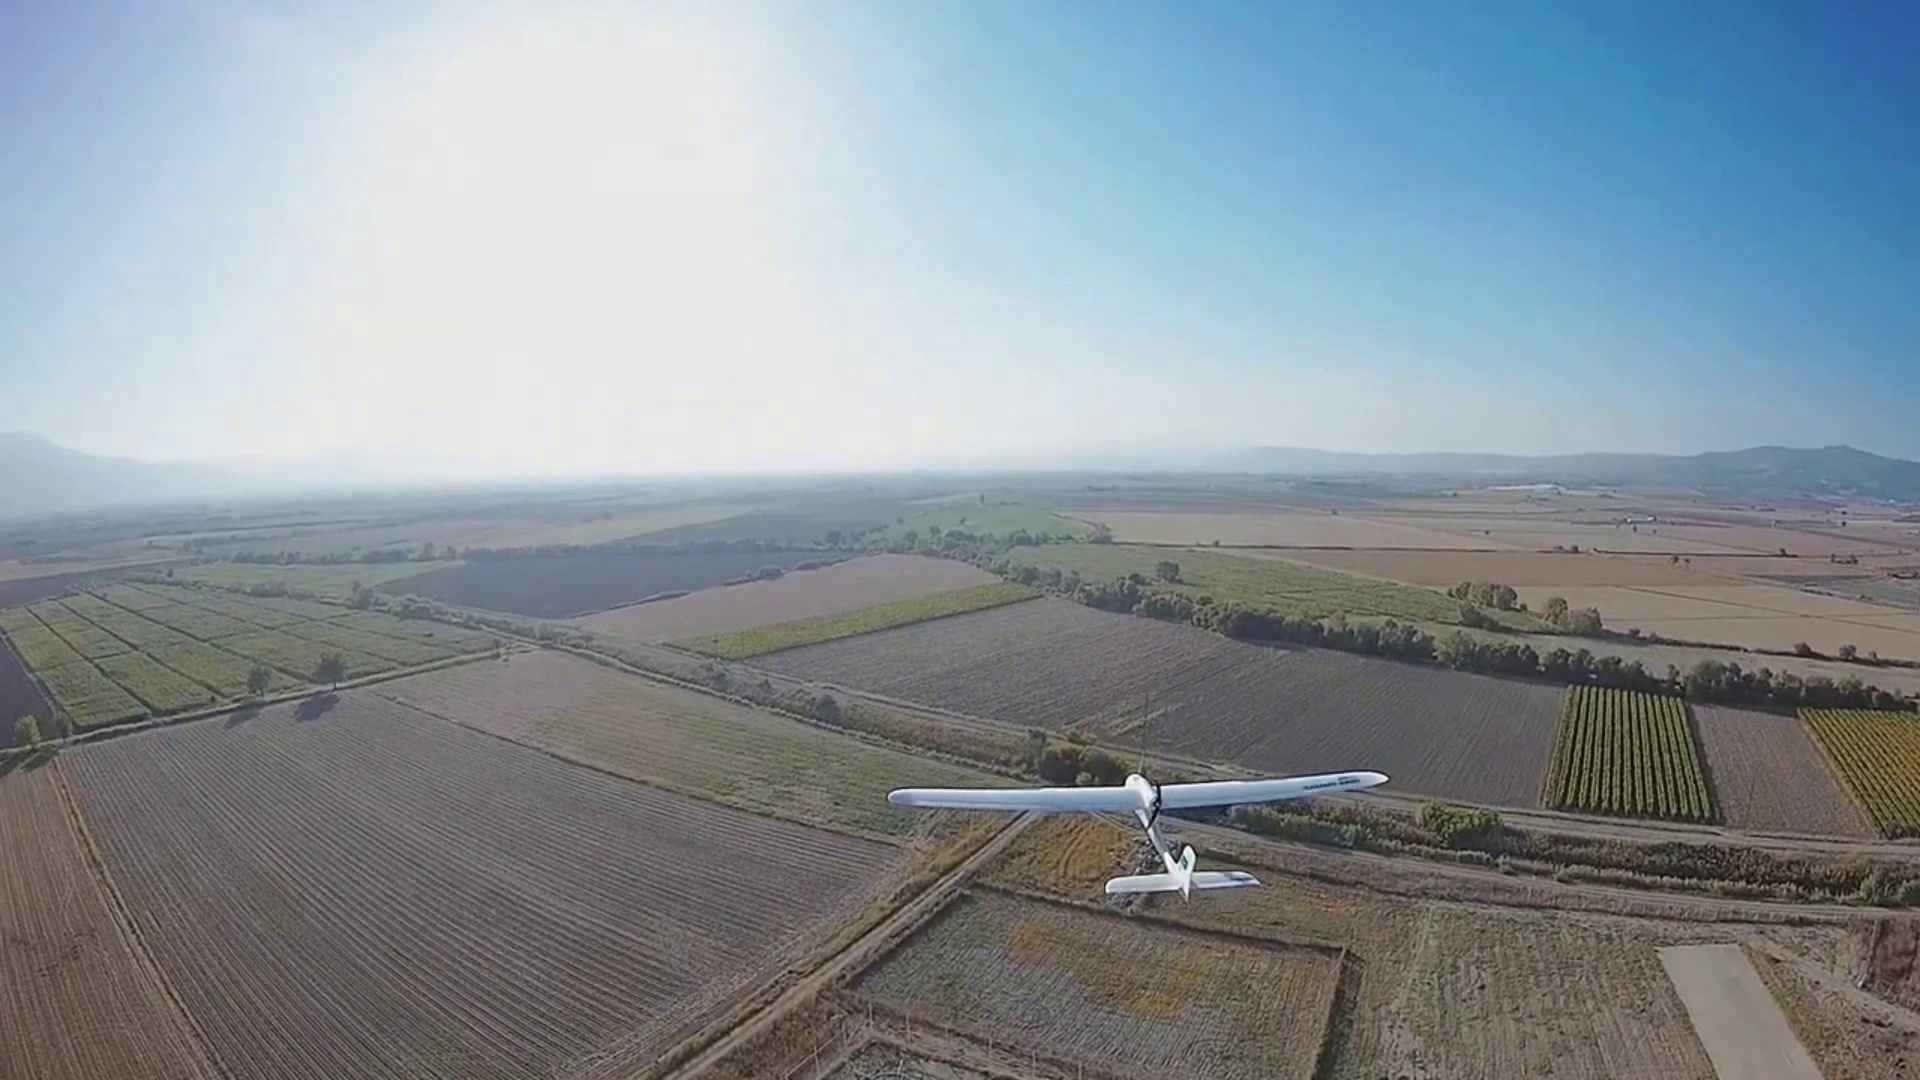airplane: (886, 762, 1390, 906)
